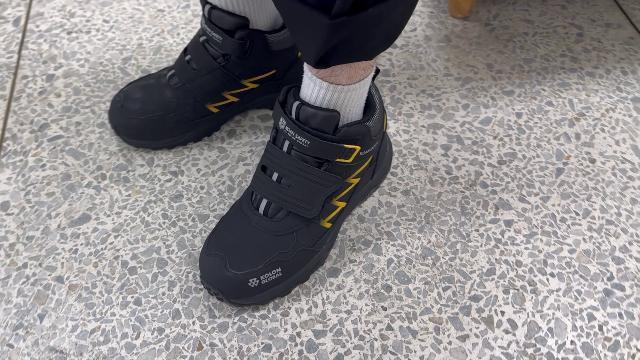shoe_worn: (194, 72, 394, 312), (106, 3, 324, 150)
